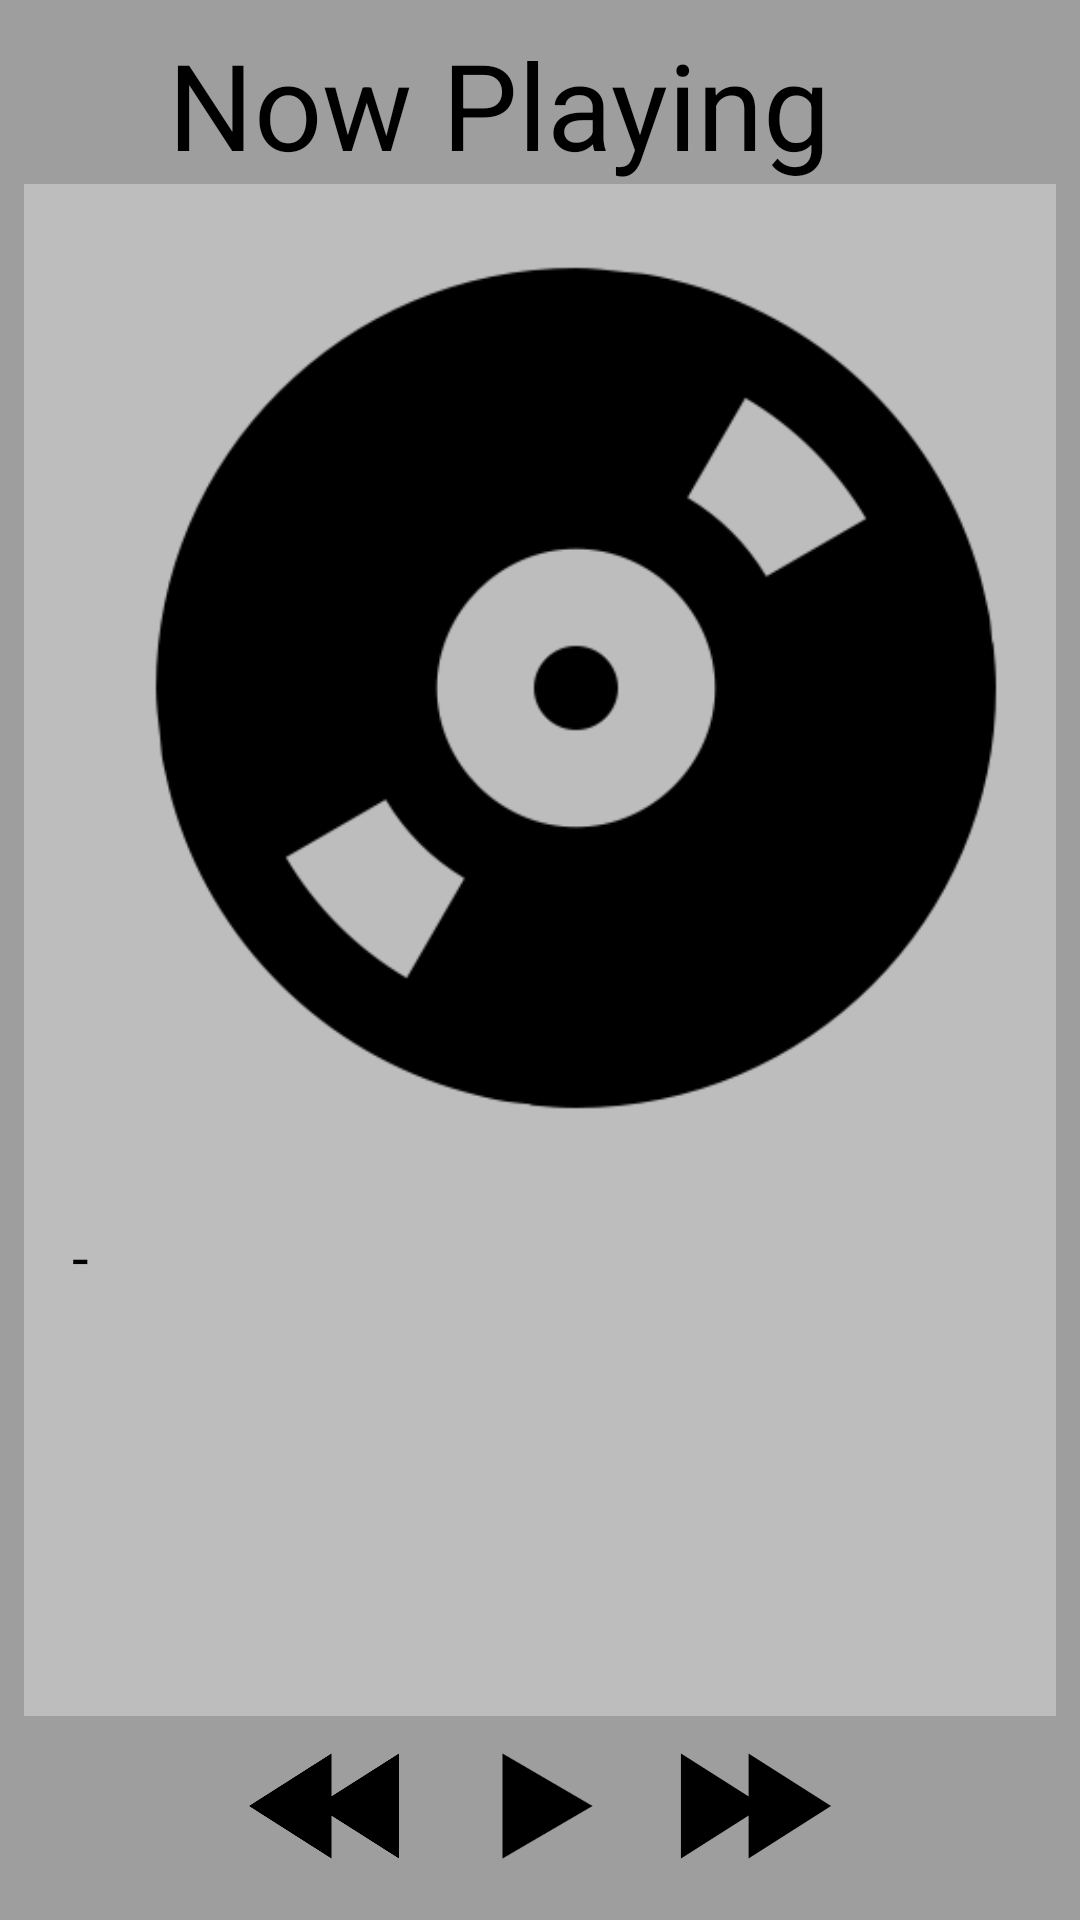

Locate icon controls on the screen. Image size 1080px×1920px, boxes as [x1, y1, x2, y2].
back: [249, 1753, 399, 1859]
next: [681, 1753, 831, 1859]
play: [502, 1753, 592, 1859]
